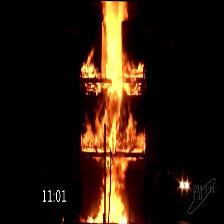fire: (92, 3, 128, 222)
